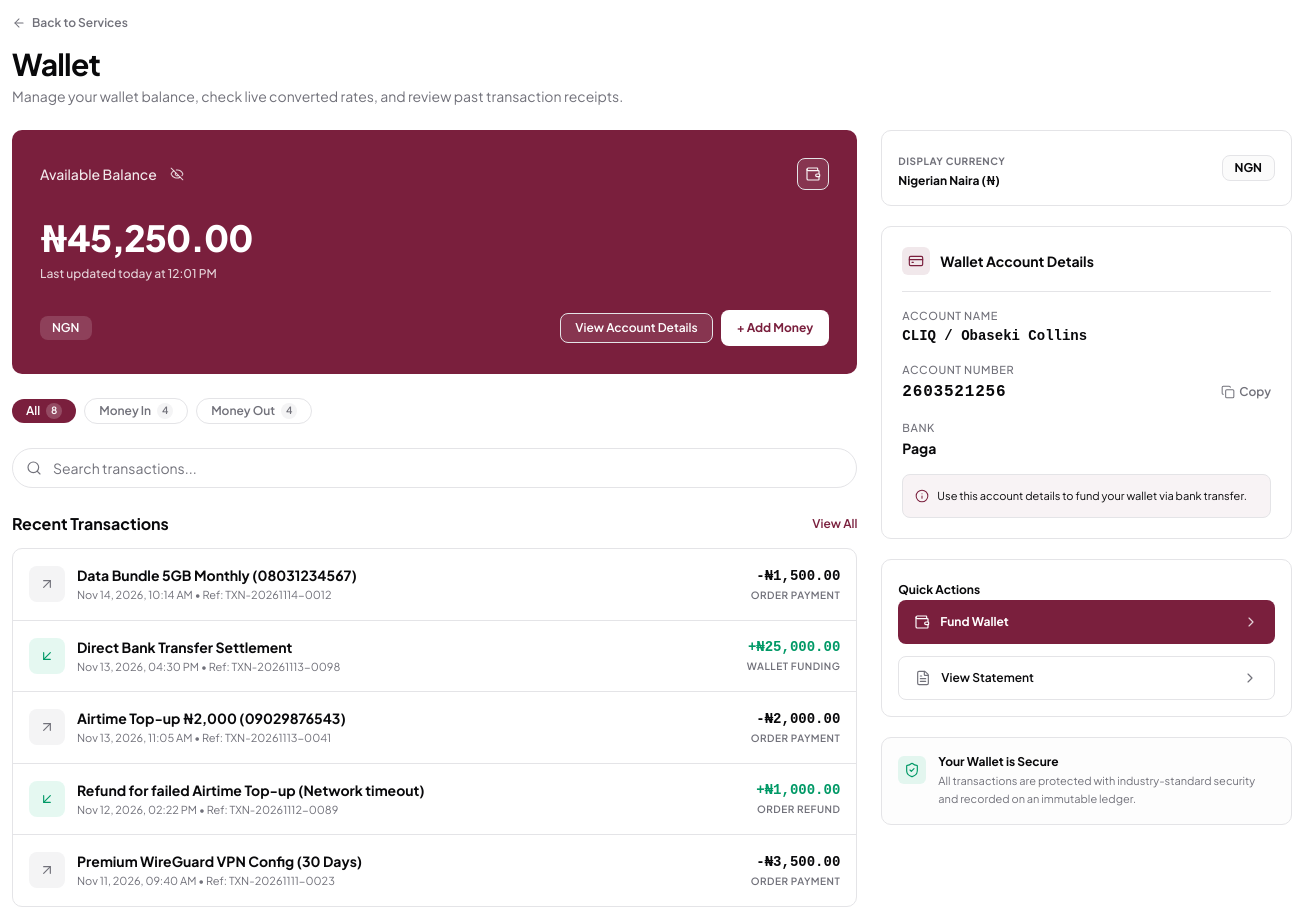
WalletView Component › filters transactions when searching in the search bar
In the search field with placeholder "Search transactions...": (435, 468) [12,448,857,488], type "non_existent_reference_xyz"
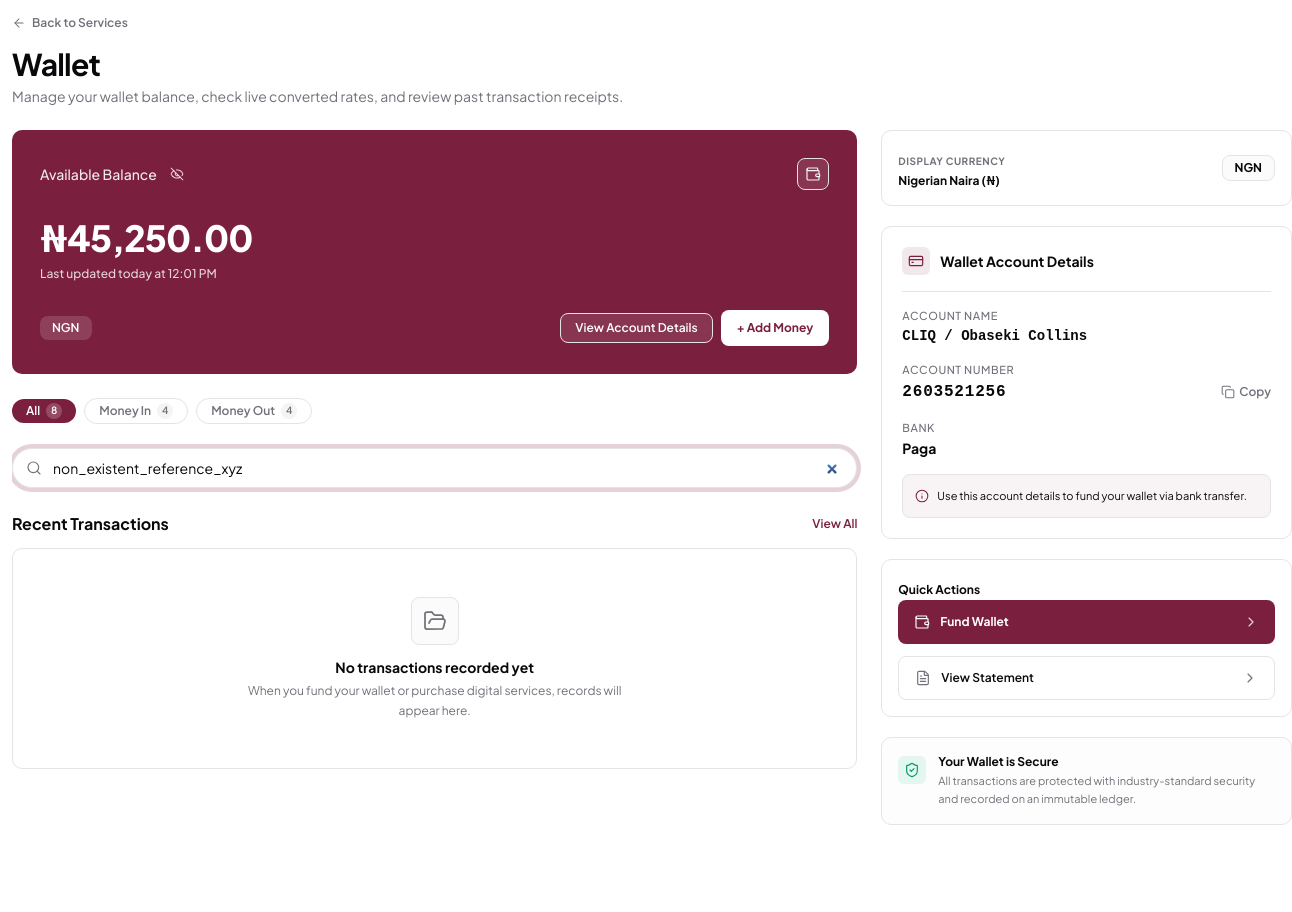
Now the heading "No transactions recorded yet" is shown, box [335,657,534,677]
